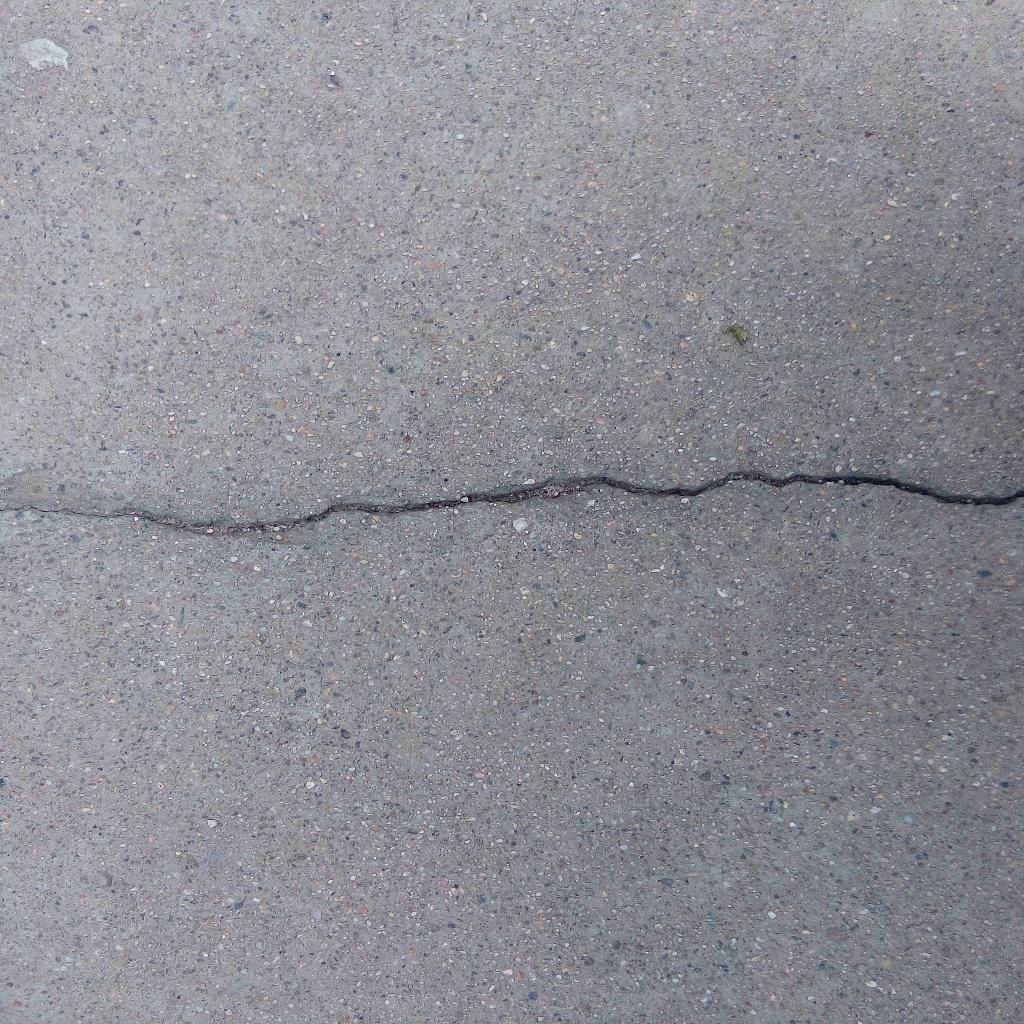Crack: (1, 466, 1024, 540)
